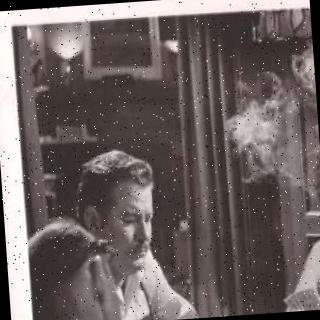smoke: (222, 97, 298, 196), (288, 38, 316, 106)
